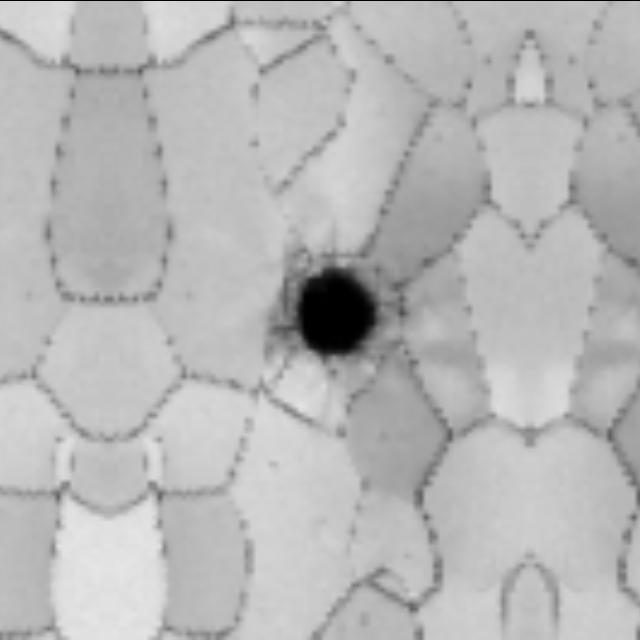good_void: (263, 230, 399, 381)
